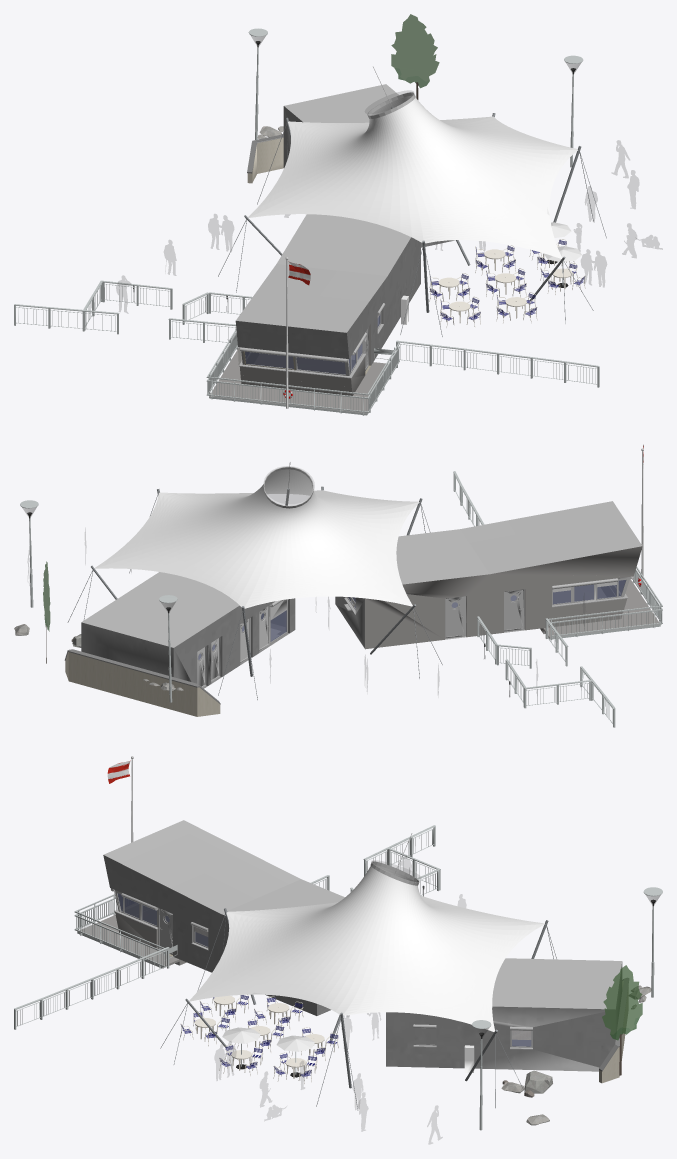
The model's file is bystrc.glb.
3 renders of one model, top to bottom at view 1: azimuth 30°, elevation 25°; view 2: azimuth 150°, elevation 25°; view 3: azimuth 270°, elevation 25°, orthographic. The views are drawn at different scales.
Visible parts, largest first — view 1: bystrc_architecture; view 2: bystrc_architecture; view 3: bystrc_architecture.
Boxes of the visible parts, <box> form: bystrc_architecture: <box>14,14,662,415</box>; bystrc_architecture: <box>14,444,662,727</box>; bystrc_architecture: <box>14,756,662,1144</box>.
Size of what is drawn, in the model's own units: 30.81 by 9.07 by 28.2.
38 materials, 10 textured.
